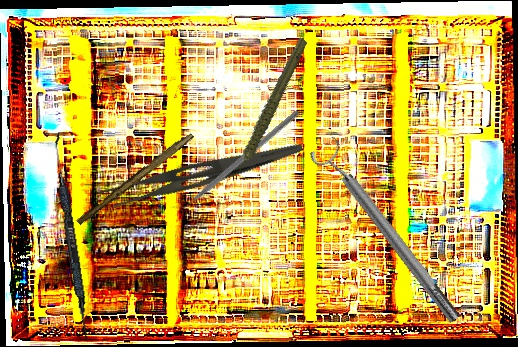Chopper: (169, 103, 301, 217)
Dressing Forceps: (96, 121, 304, 220)
Fixation Ring: (307, 134, 469, 331)
Handpiece: (202, 35, 334, 180)
Scalpel Handle: (75, 128, 195, 229)
Spatula Surgical: (46, 132, 96, 342)
